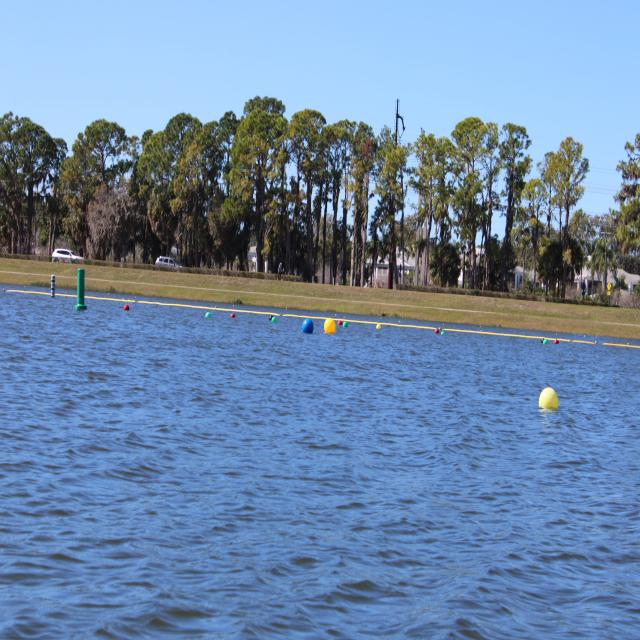blue-buoy: (302, 321, 312, 337)
green-column-buoy: (75, 268, 87, 312)
red-buoy: (434, 327, 439, 334), (555, 340, 560, 346), (340, 319, 344, 326)
yellow-buoy: (540, 385, 560, 408), (327, 321, 338, 338), (377, 322, 383, 330)
